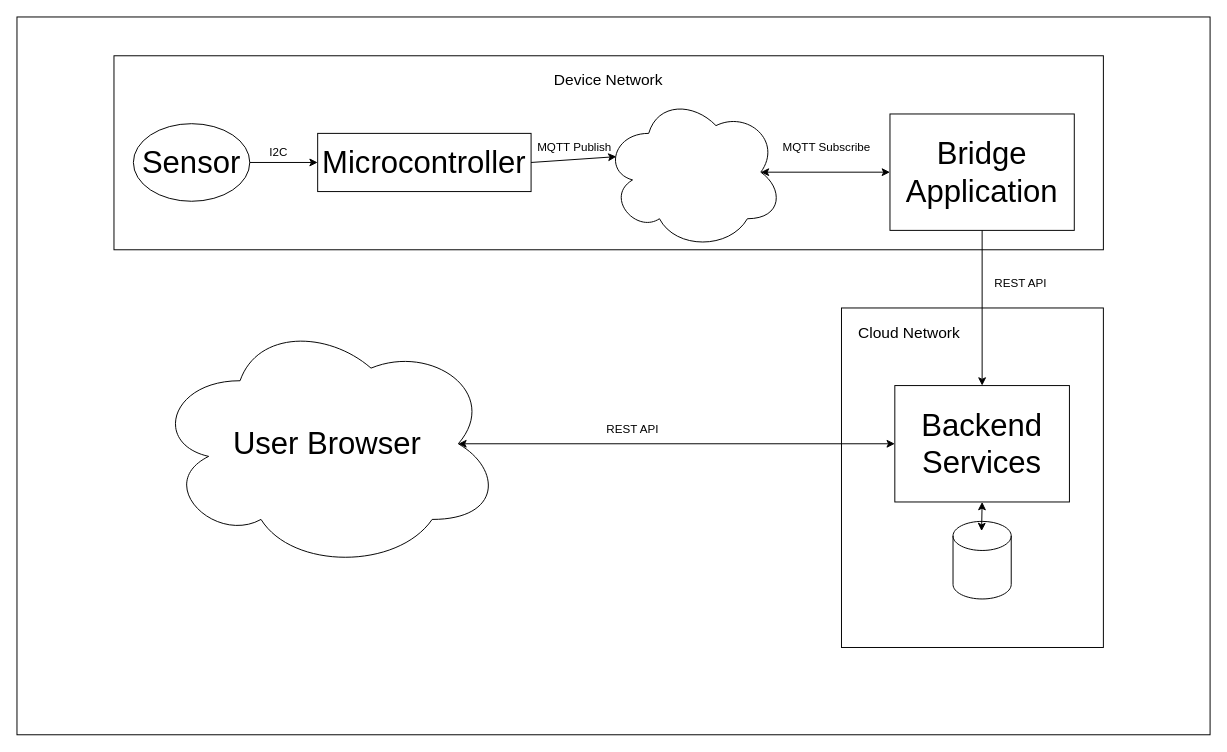
Some shapes in this 1227 by 752 pixel diagram are drawn without their labels. The shapes that lost their labels are listed below. From the top down, each one's centre as x and y in pixels, then its label:
the point at 693,172: MQTT Broker
the point at 981,559: Database
